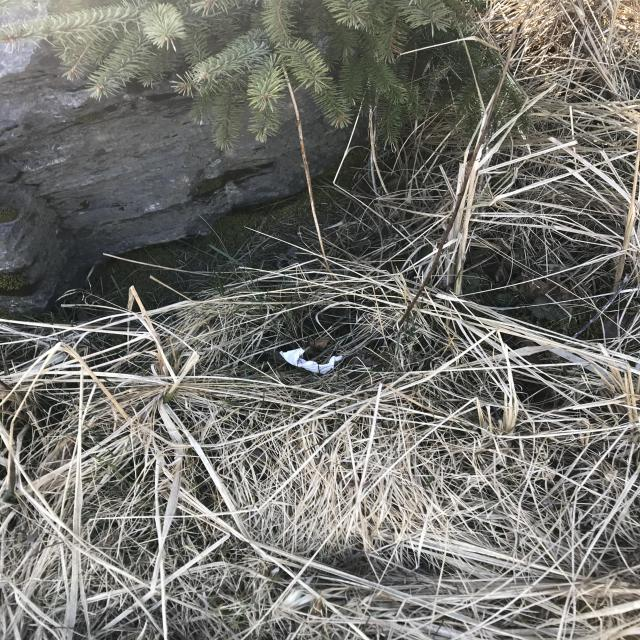litter: (460, 221, 500, 274)
